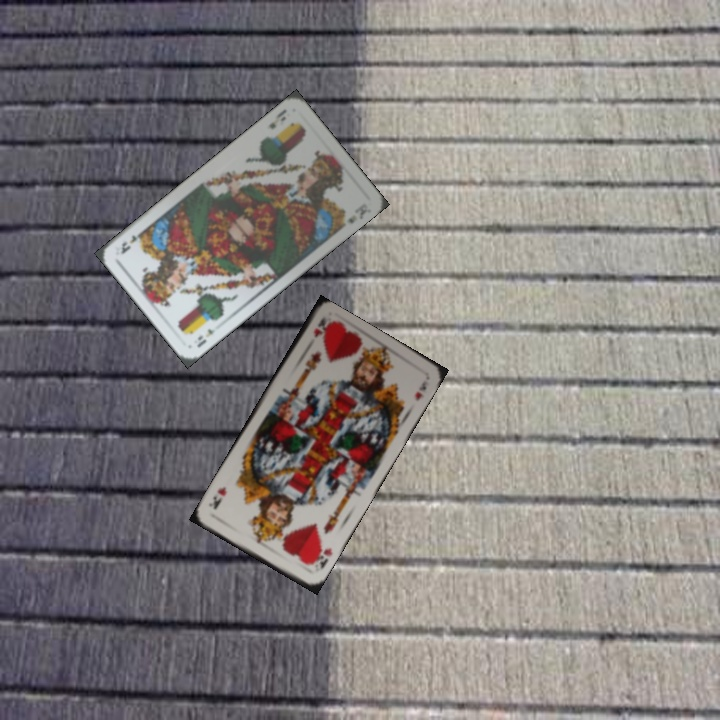EK: (193, 322, 224, 350), (265, 105, 289, 132)
HK: (307, 540, 335, 571), (309, 314, 331, 340)
